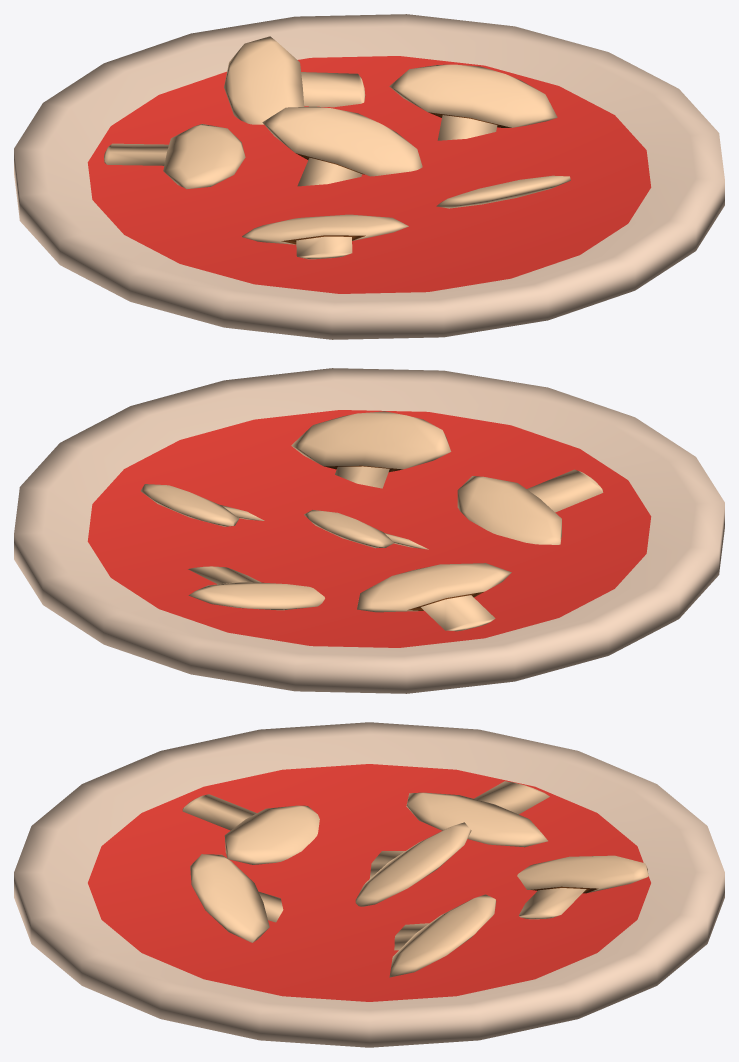
Rendered from RawPizza(With Tomato and Mushrooms).glb.
The picture shows the model from 3 angles, top to bottom: view 1: azimuth 30°, elevation 25°; view 2: azimuth 150°, elevation 25°; view 3: azimuth 270°, elevation 25°; orthographic projection.
Parts seen in each view (by area): view 1: Icosphere.026; view 2: Icosphere.026; view 3: Icosphere.026.
Boxes of the visible parts, x1,y1,x2,y2 form: Icosphere.026: (14,14,724,339); Icosphere.026: (14,368,724,693); Icosphere.026: (14,722,724,1047).
Size of the model in its own units: 0.8833 by 0.078 by 0.8833.
